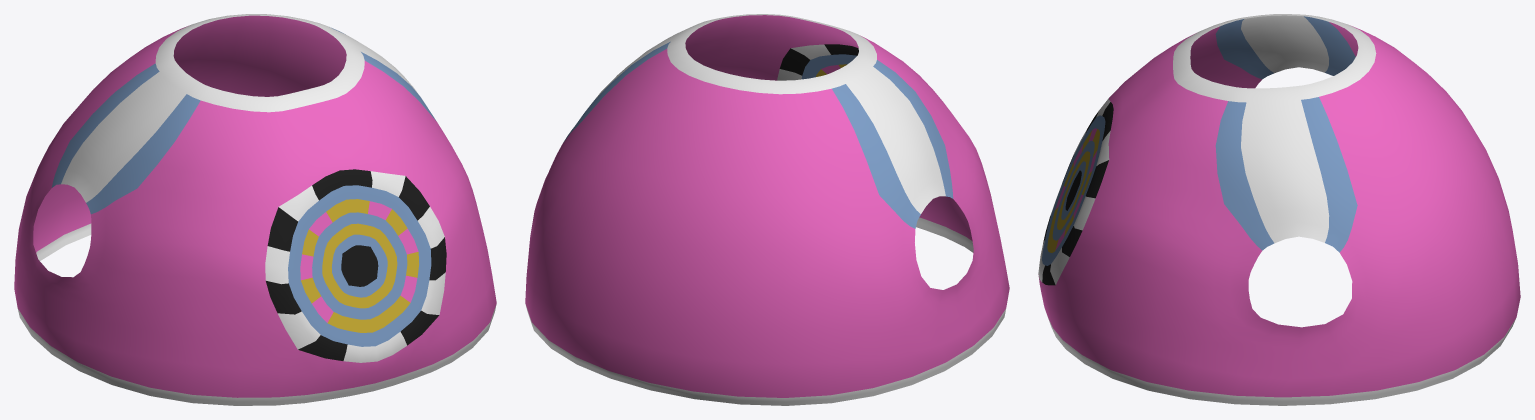
The picture shows the model from 3 angles, left to right: view 1: azimuth 30°, elevation 25°; view 2: azimuth 150°, elevation 25°; view 3: azimuth 270°, elevation 25°; orthographic projection.
Parts seen in each view (by area): view 1: psychedlic_shirt; view 2: psychedlic_shirt; view 3: psychedlic_shirt.
Boxes of the visible parts, x1,y1,x2,y2 form: psychedlic_shirt: (14, 14, 496, 405); psychedlic_shirt: (525, 14, 1009, 405); psychedlic_shirt: (1038, 14, 1520, 405).
Bounding box in the file's own units: 1.36 × 0.8154 × 1.38.
